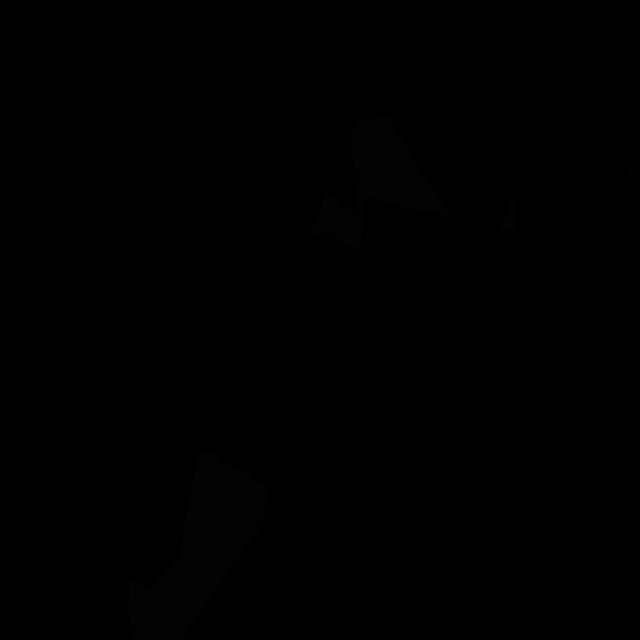cardboard: (128, 449, 269, 640), (351, 116, 454, 217), (311, 193, 364, 248), (498, 192, 517, 232)
rigid_plastic: (622, 151, 640, 241)
